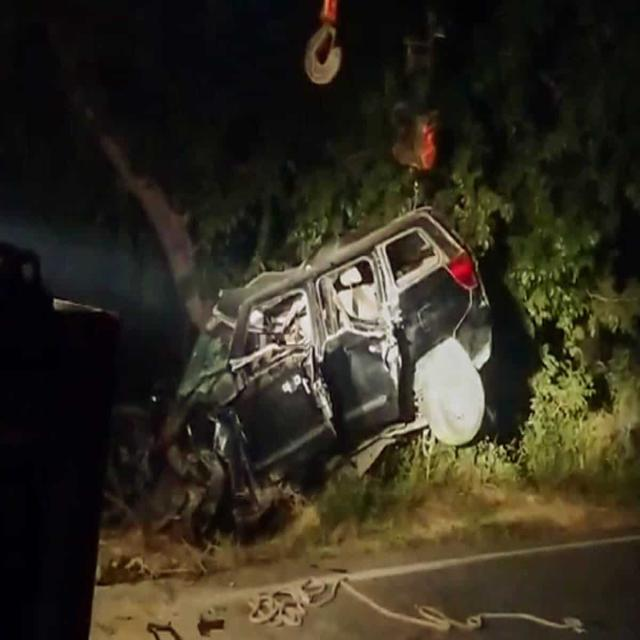accident: (164, 207, 499, 529)
